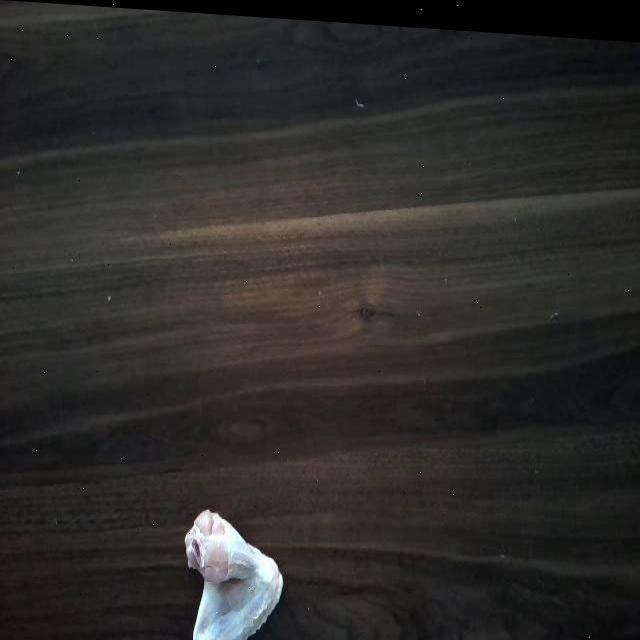wing: (175, 512, 292, 640)
